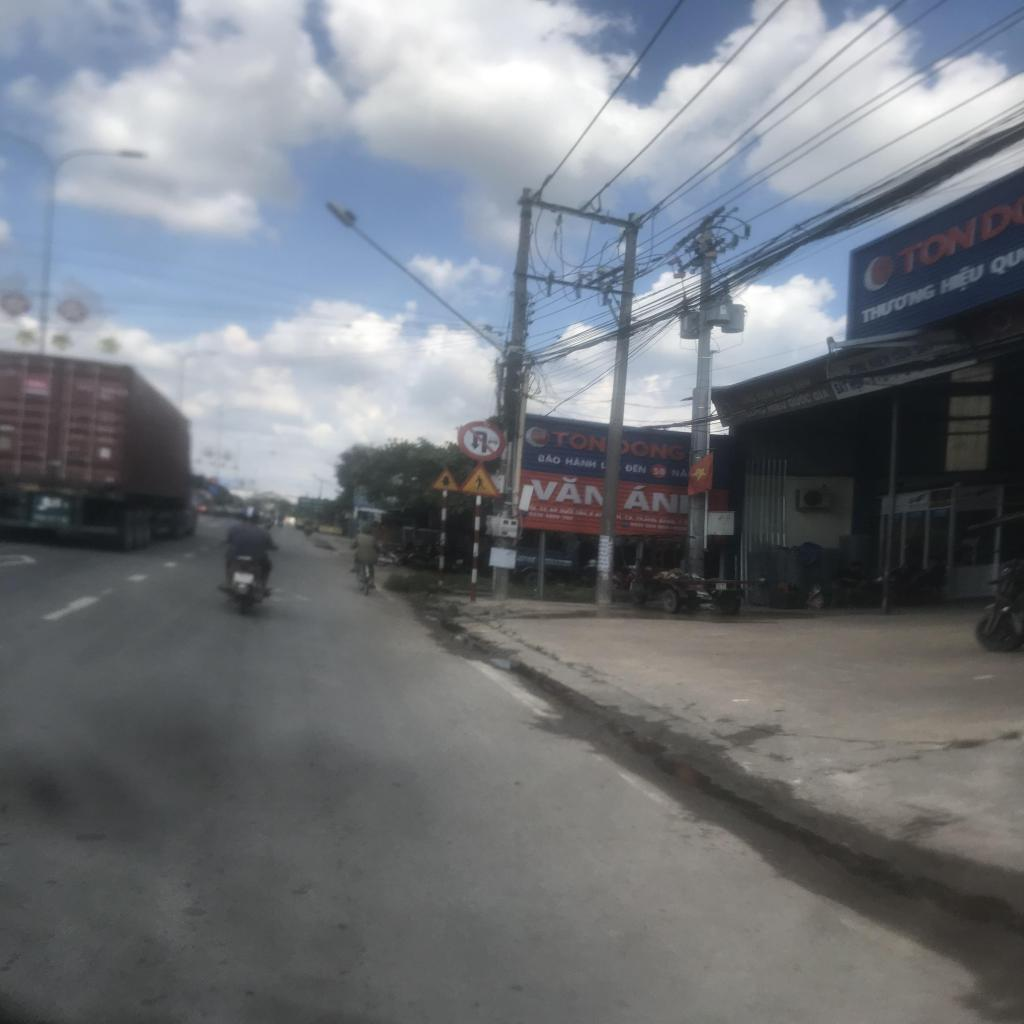cam_o_to_quay_dau_xe: (459, 422, 505, 462)
chu_y_nguoi_di_bo_cat_ngang: (457, 462, 502, 498)
giao_nhau_voi_duong_khong_uu_tien: (428, 466, 459, 492)
